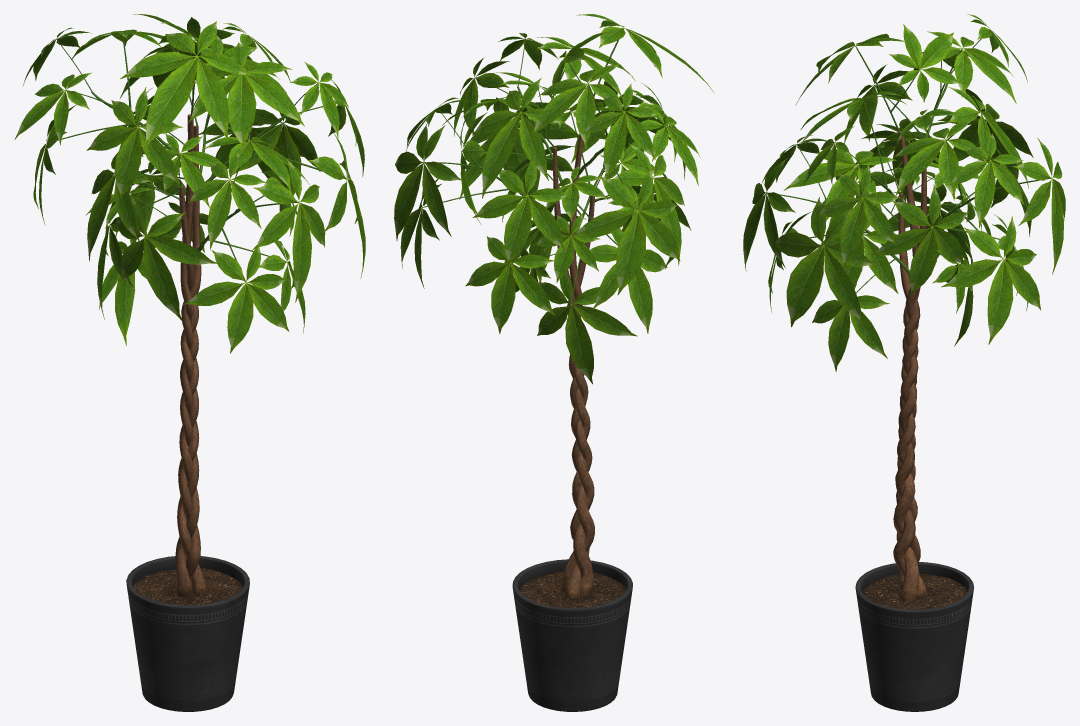
File: BP_RoomPlantsSet01_PakiraB.fbx
The picture shows the model from 3 angles, left to right: view 1: azimuth 30°, elevation 25°; view 2: azimuth 150°, elevation 25°; view 3: azimuth 270°, elevation 25°; orthographic projection. The views are drawn at different scales.
Parts seen in each view (by area): view 1: Ha, Ha_ura, Hachi, Miki, Tsuchi, kuki; view 2: Ha, Ha_ura, Hachi, Miki, Tsuchi, kuki; view 3: Ha, Ha_ura, Hachi, Miki, Tsuchi, kuki.
Part boxes in pixels (<box>): Ha: <box>14,14,365,353</box>; Ha_ura: <box>16,14,365,351</box>; Hachi: <box>126,556,249,711</box>; Miki: <box>175,114,207,596</box>; Tsuchi: <box>133,567,242,605</box>; kuki: <box>47,35,346,281</box>; Ha: <box>394,14,714,384</box>; Ha_ura: <box>394,14,711,382</box>; Hachi: <box>512,559,632,711</box>; Miki: <box>553,134,594,598</box>; Tsuchi: <box>519,571,626,607</box>; kuki: <box>423,28,674,303</box>; Ha: <box>743,14,1065,371</box>; Ha_ura: <box>743,14,1064,369</box>; Hachi: <box>855,562,974,711</box>; Miki: <box>893,130,927,601</box>; Tsuchi: <box>862,573,967,609</box>; kuki: <box>767,38,1051,293</box>.
Size of the model in its own units: 82.09 by 183 by 81.68.
